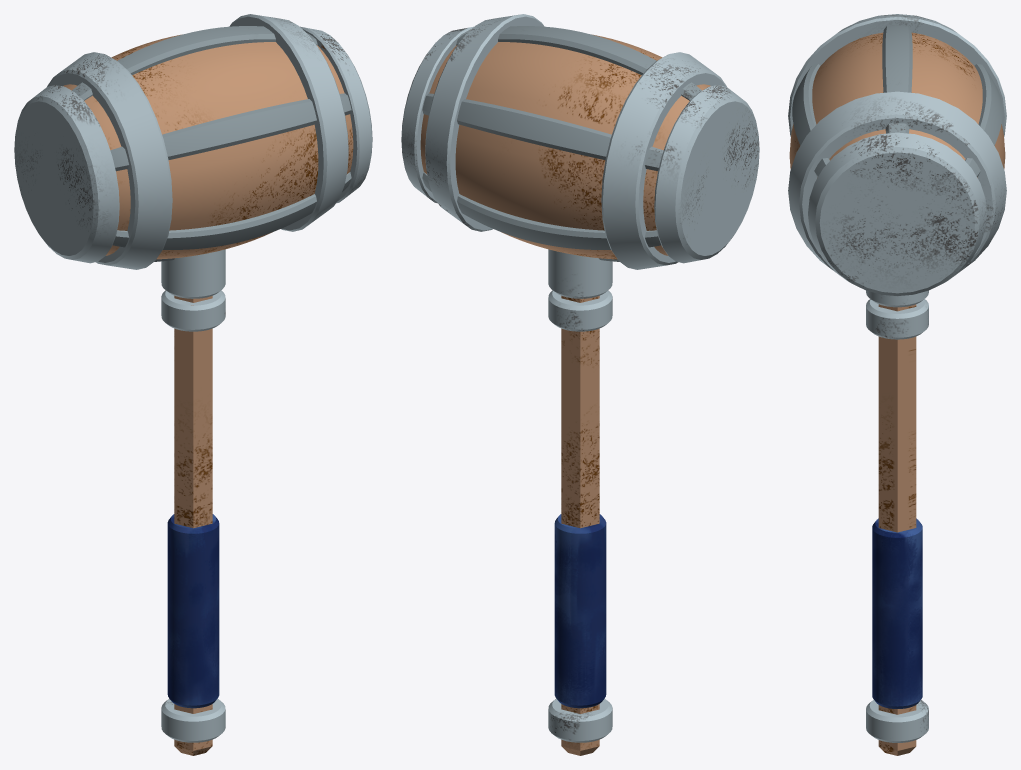
File: mallet.fbx
3 renders of one model, left to right at view 1: azimuth 30°, elevation 25°; view 2: azimuth 150°, elevation 25°; view 3: azimuth 270°, elevation 25°, orthographic.
Visible parts, largest first — view 1: Mallet; view 2: Mallet; view 3: Mallet.
Boxes of the visible parts, <box> form: Mallet: <box>14,14,372,755</box>; Mallet: <box>401,14,759,755</box>; Mallet: <box>788,14,1006,755</box>.
Size of the model in its own units: 1.17 by 2.84 by 0.8064.
1 material, 1 textured.
